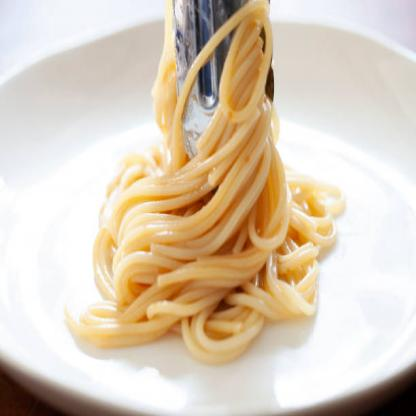Noodles: (62, 0, 345, 366)
